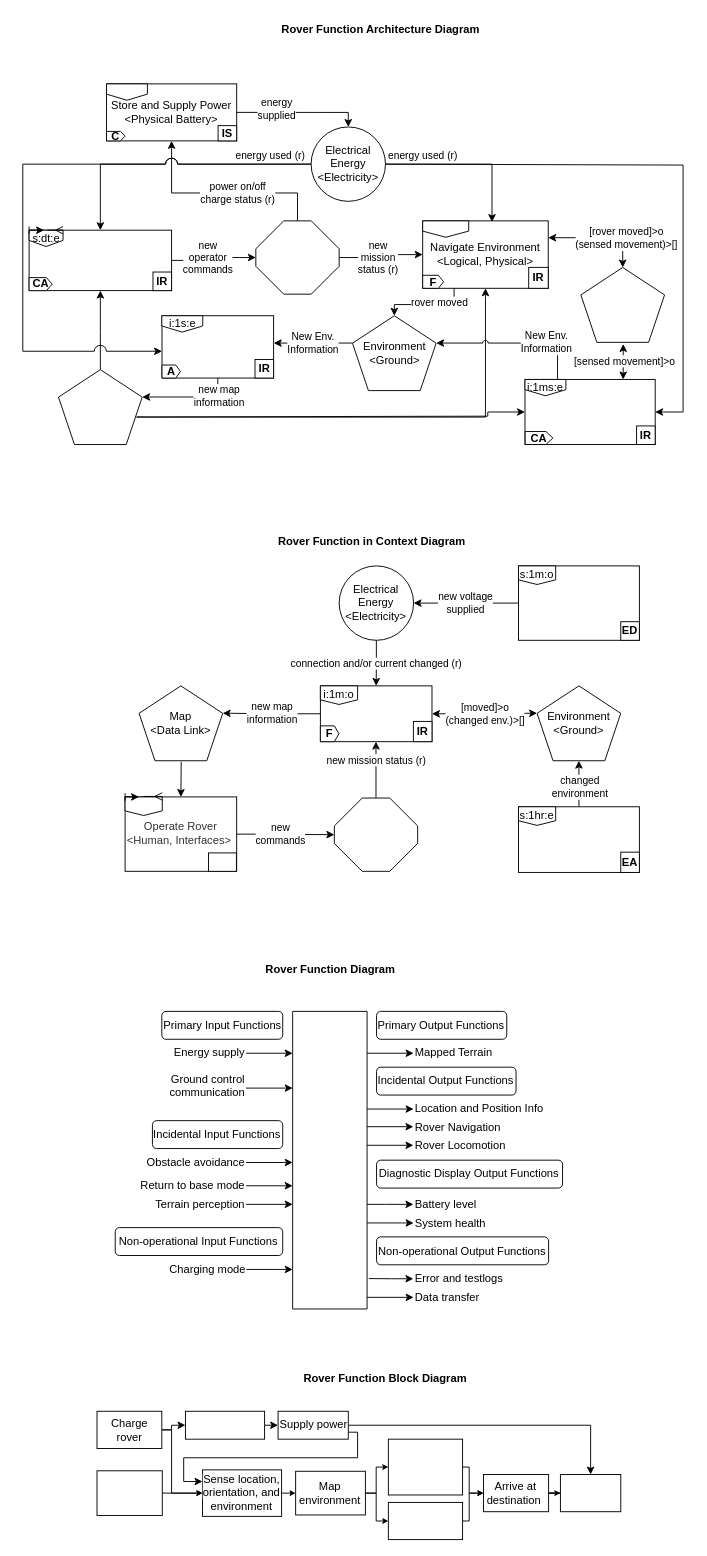
The diagram is 707 pixels wide and 1556 high, and some of its shapes have lost their labels. Here are the shapes that lost their labels. From the top down, the box of each, then its label:
(106, 83, 147, 100): i:1ms:o
(422, 220, 469, 237): i:1s:o
(28, 229, 172, 291): Communicate w- Operator <Comms Unit>
(255, 220, 339, 294): Commands <Signal Wires>
(580, 267, 665, 342): Location and Orientation <DOFs>
(161, 315, 274, 378): Map Environment <Logical Perception>
(58, 369, 142, 445): Map <Data Cable>
(524, 379, 655, 445): Sense Environment <Logical Perception>
(518, 565, 639, 640): Charge Rover <Automated, Charger>
(319, 685, 432, 742): Map Environment <Rover>
(124, 796, 162, 816): s:1m:e
(333, 797, 418, 871): Commands <Comms>
(518, 806, 639, 872): Modify Environment <Weather, Conditions>
(208, 852, 236, 871): EV
(292, 1010, 367, 1309): Environmental Mapping Rover
(185, 1410, 265, 1439): Store energy
(387, 1438, 463, 1495): Communicate location, orientation, map
(96, 1470, 162, 1515): Receive mission instructions
(559, 1474, 621, 1512): Shut down rover
(387, 1501, 463, 1540): Navigate environment
